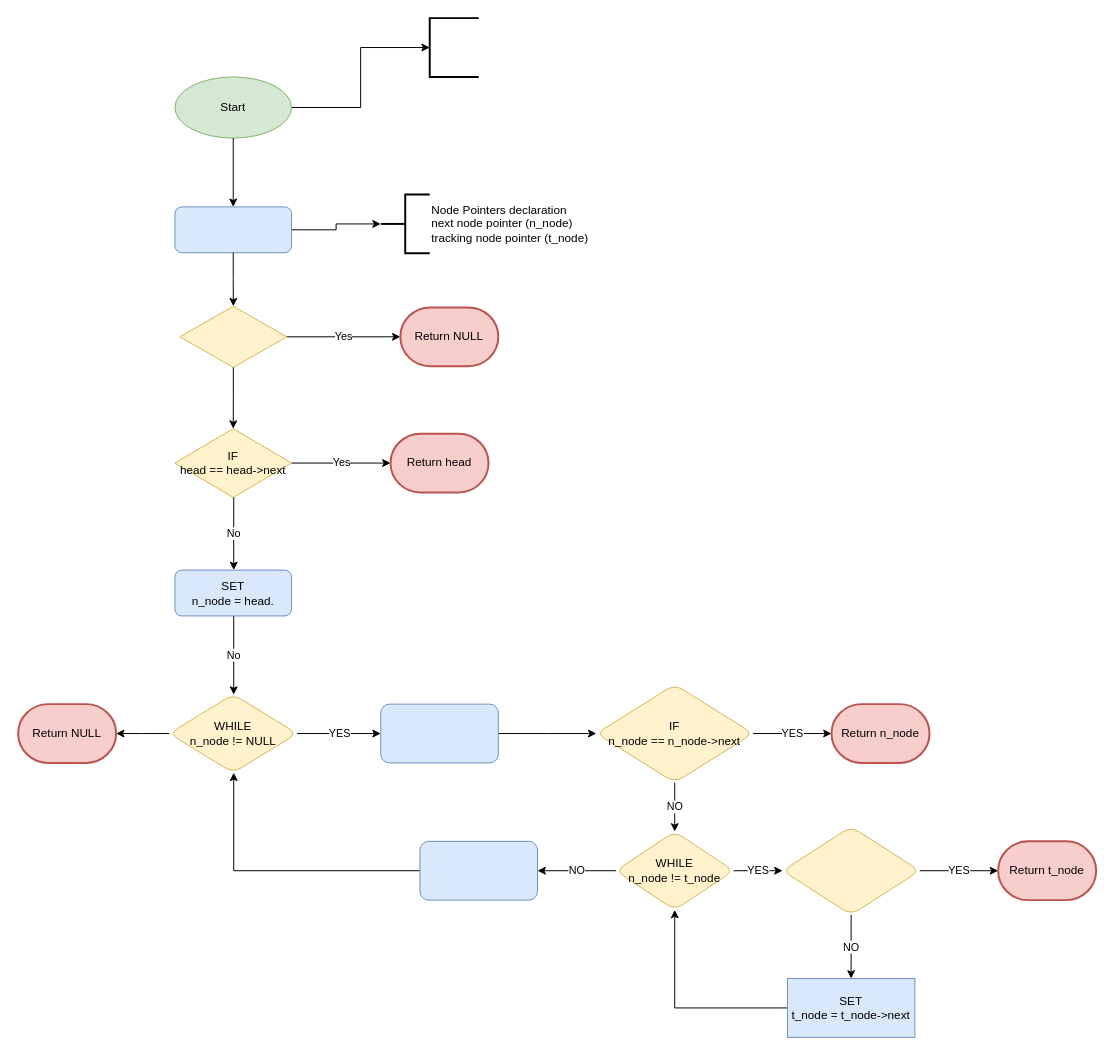
Some shapes in this 1113 by 1054 pixel diagram are drawn without their labels. Each missing label, with the centre of its shape:
Declaration n_node, t_node.: [233,229]
find_listint_loop Param: head node pointer (head).: [453,47]
IF head == NULL: [233,336]
IF t_node == n_node->next: [851,870]
SET n_node = n_node->next: [478,870]
t_node = head: [439,733]
